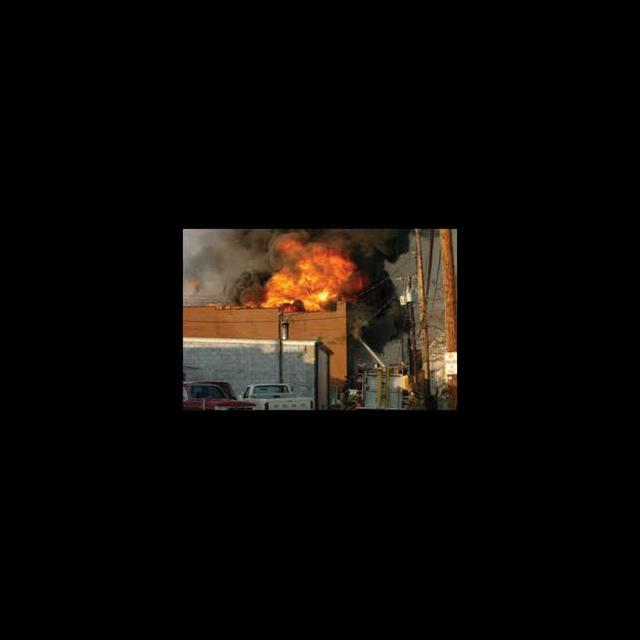Fire: (266, 238, 364, 315), (225, 302, 267, 310)
Smoke: (186, 232, 264, 300), (364, 230, 408, 338), (265, 229, 365, 237)
